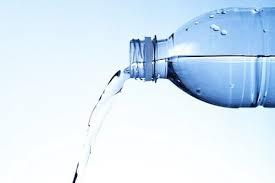Plastic bottle: (128, 0, 275, 107)
